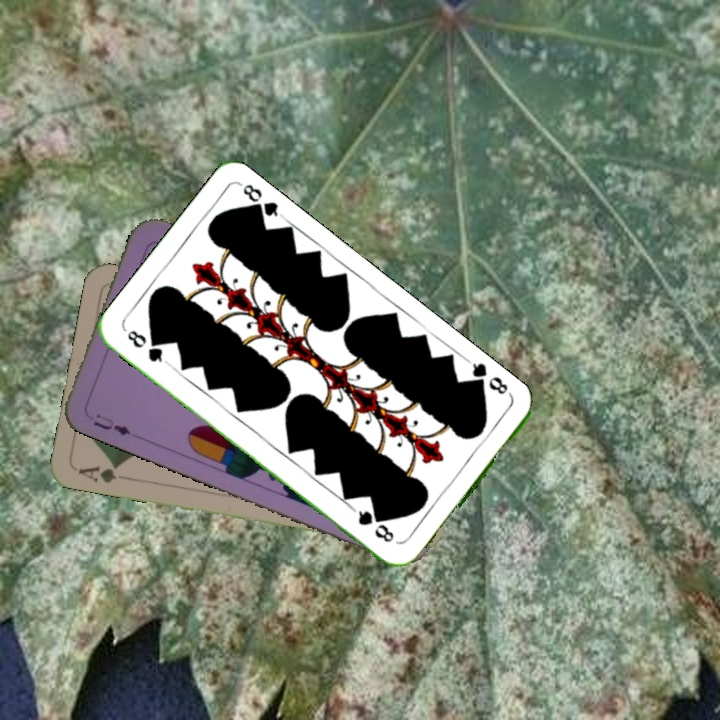EU: (89, 409, 134, 438)
G8: (465, 357, 515, 400), (123, 326, 171, 367)
GA: (74, 460, 133, 486)
